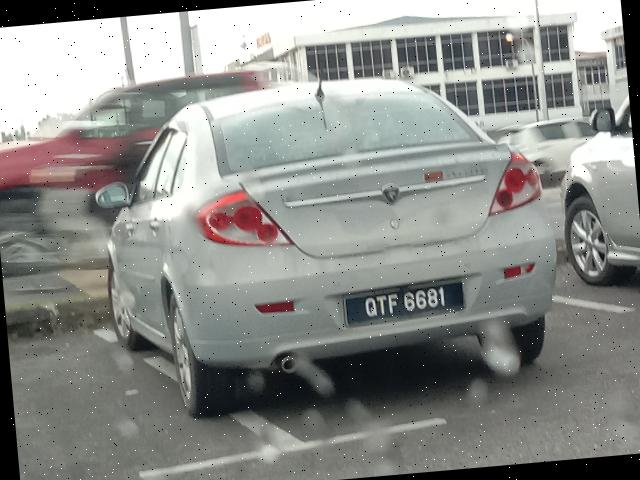License_Plate: (342, 278, 468, 328)
car: (73, 63, 561, 429)
